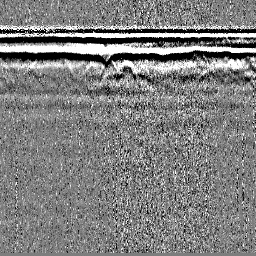cavity: (118, 60, 136, 77)
